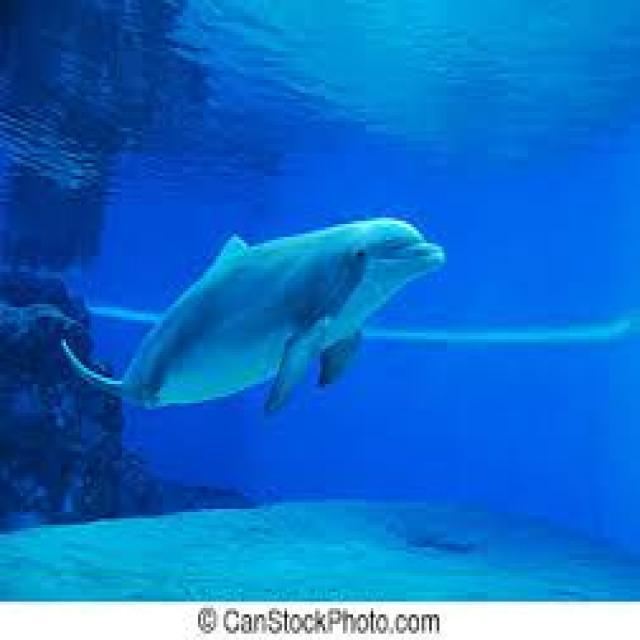dolphin: (41, 189, 460, 493)
